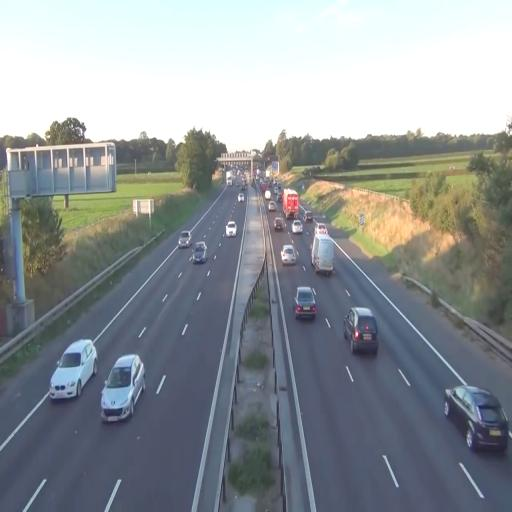vehicle: (444, 384, 510, 454), (100, 353, 146, 423), (48, 338, 98, 400), (343, 306, 378, 354), (350, 310, 379, 356), (312, 234, 335, 276), (294, 286, 317, 321), (282, 188, 300, 218), (270, 206, 286, 233), (191, 240, 207, 264), (281, 242, 297, 264), (272, 214, 286, 233), (290, 218, 304, 236), (225, 219, 236, 238), (179, 231, 191, 248)
